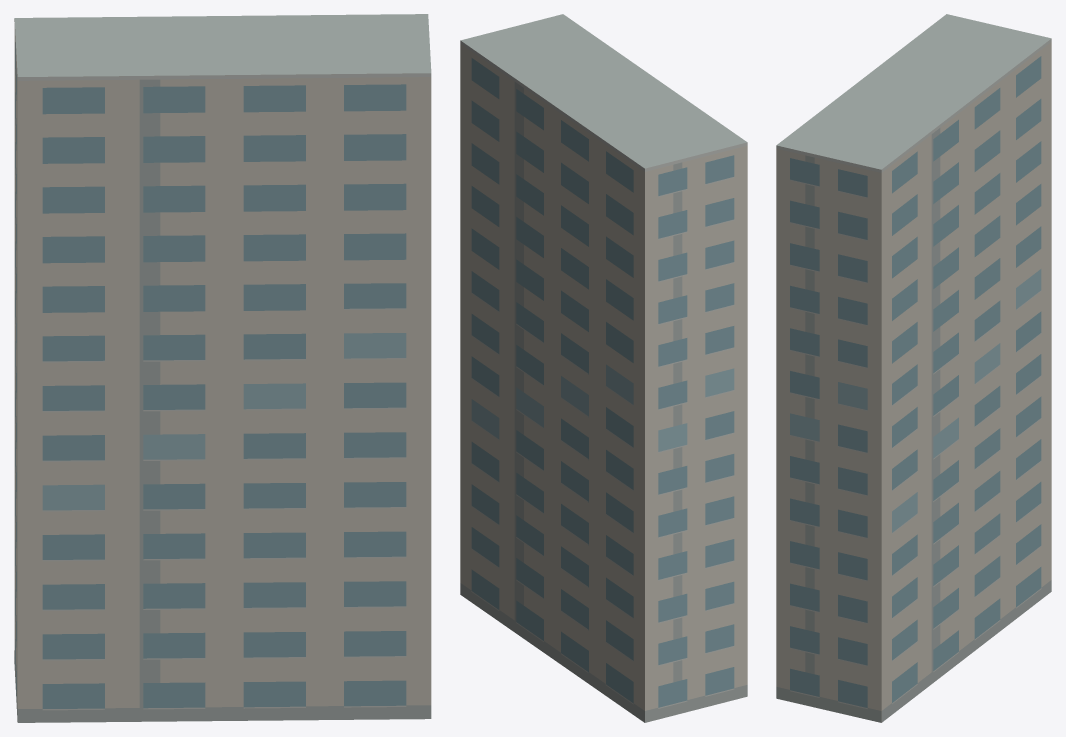
Rendered from residential-02df3b54-c932-4ceb-9c81-a6b37b9d6f44.glb.
The picture shows the model from 3 angles, left to right: view 1: azimuth 30°, elevation 25°; view 2: azimuth 150°, elevation 25°; view 3: azimuth 270°, elevation 25°; orthographic projection. The views are drawn at different scales.
Visible parts, largest first — view 1: residential-02df3b54-c932-4ceb-9c81-a6b37b9d6f44.tmp; view 2: residential-02df3b54-c932-4ceb-9c81-a6b37b9d6f44.tmp; view 3: residential-02df3b54-c932-4ceb-9c81-a6b37b9d6f44.tmp.
Part boxes in pixels (x1,y1,x2,y2): residential-02df3b54-c932-4ceb-9c81-a6b37b9d6f44.tmp: (14, 14, 431, 722); residential-02df3b54-c932-4ceb-9c81-a6b37b9d6f44.tmp: (460, 14, 747, 722); residential-02df3b54-c932-4ceb-9c81-a6b37b9d6f44.tmp: (776, 14, 1051, 722).
Size of the model in its own units: 24.76 by 41 by 18.51.
